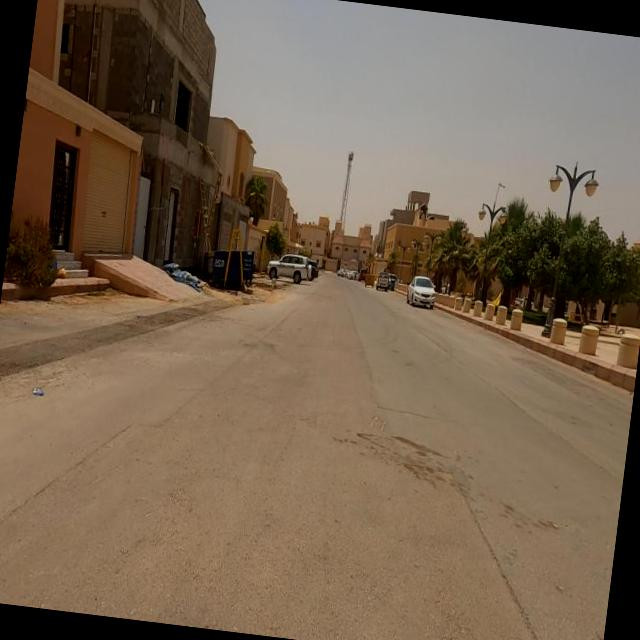debris: (148, 220, 230, 327), (10, 352, 75, 426)
